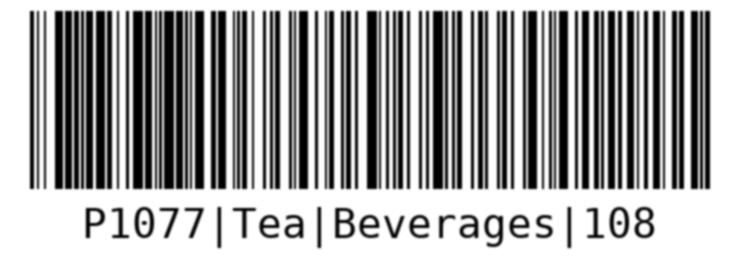milk: (21, 7, 717, 255)
